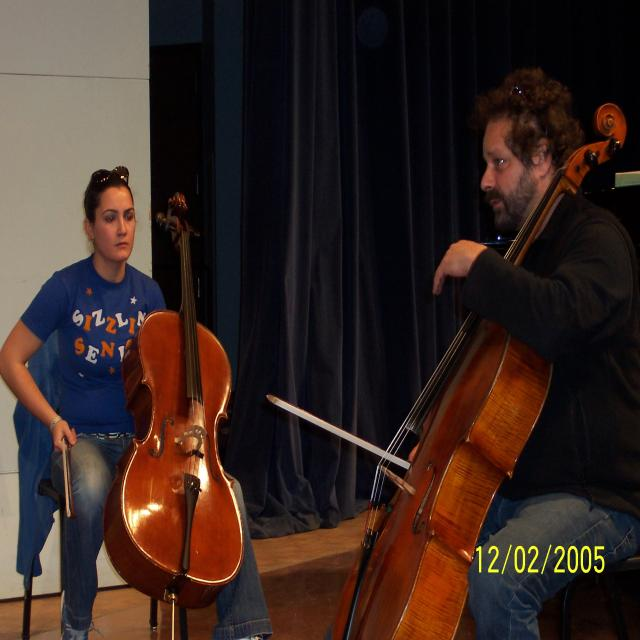cello: (332, 95, 631, 640), (103, 190, 242, 609)
